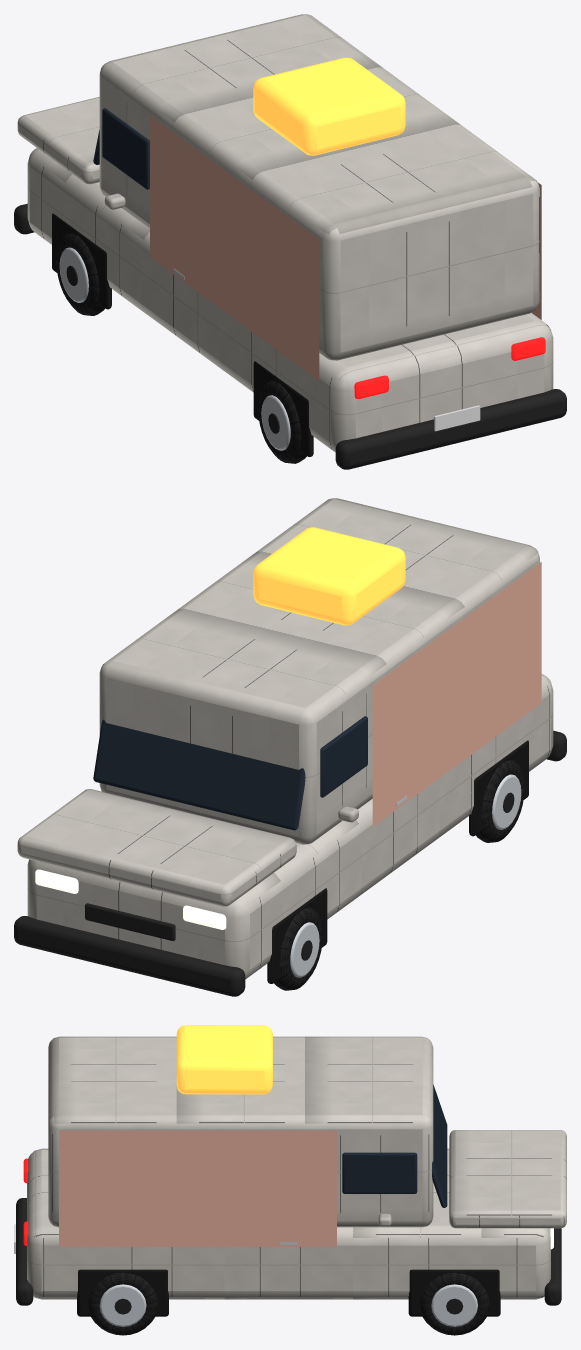
Rendered from car_van.glb.
The picture shows the model from 3 angles, top to bottom: view 1: azimuth 30°, elevation 25°; view 2: azimuth 150°, elevation 25°; view 3: azimuth 270°, elevation 25°; orthographic projection. The views are drawn at different scales.
Visible parts, largest first — view 1: Body, WheelFL, WheelBL, Taillights; view 2: Body, WheelBL, WheelFL; view 3: Body, WheelBR, WheelFR.
Boxes of the visible parts, x1,y1,x2,y2 form: Body: (14,14,566,469); WheelFL: (56,233,104,315); WheelBL: (258,381,306,463); Taillights: (354,337,545,398); Body: (14,498,566,996); WheelBL: (476,760,524,842); WheelFL: (274,908,322,990); Body: (14,1025,566,1316); WheelBR: (88,1272,157,1335); WheelFR: (420,1272,489,1335).
Size of the model in its own units: 2.21 by 2.58 by 5.17.
Materials: 11 (3 with a texture image).
